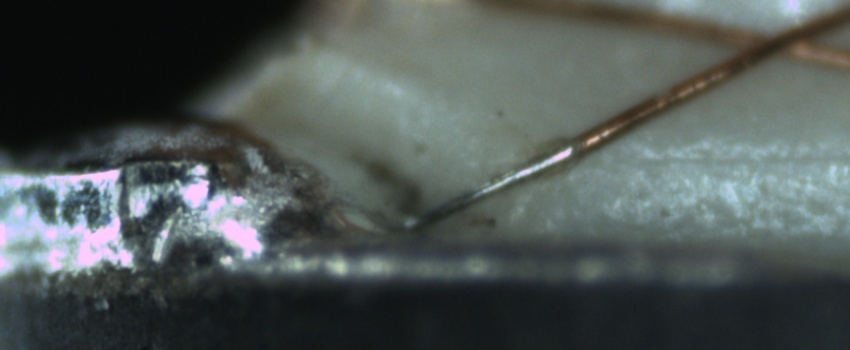CL: (731, 14, 823, 69)
DL: (566, 127, 850, 191)
TS: (412, 144, 572, 231)
TTCW: (404, 111, 633, 231)
